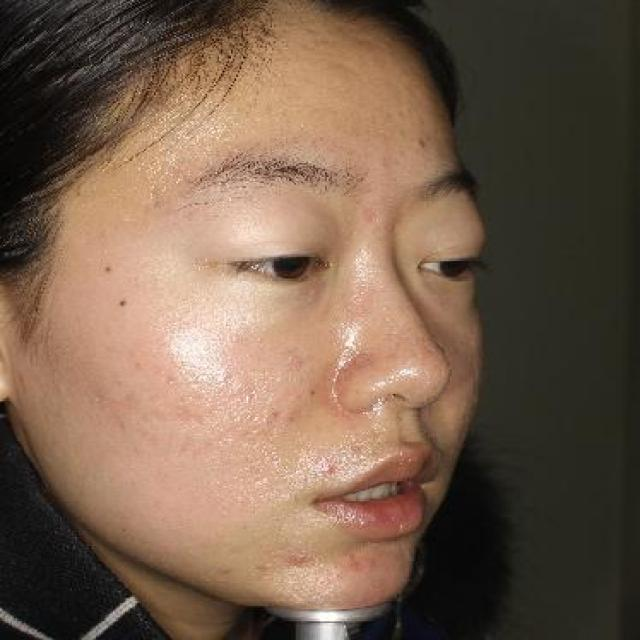blackheads: (404, 128, 435, 157), (298, 385, 322, 403)
papules: (279, 548, 317, 569), (351, 202, 376, 228), (315, 458, 335, 476), (363, 552, 380, 572), (351, 554, 361, 572)
